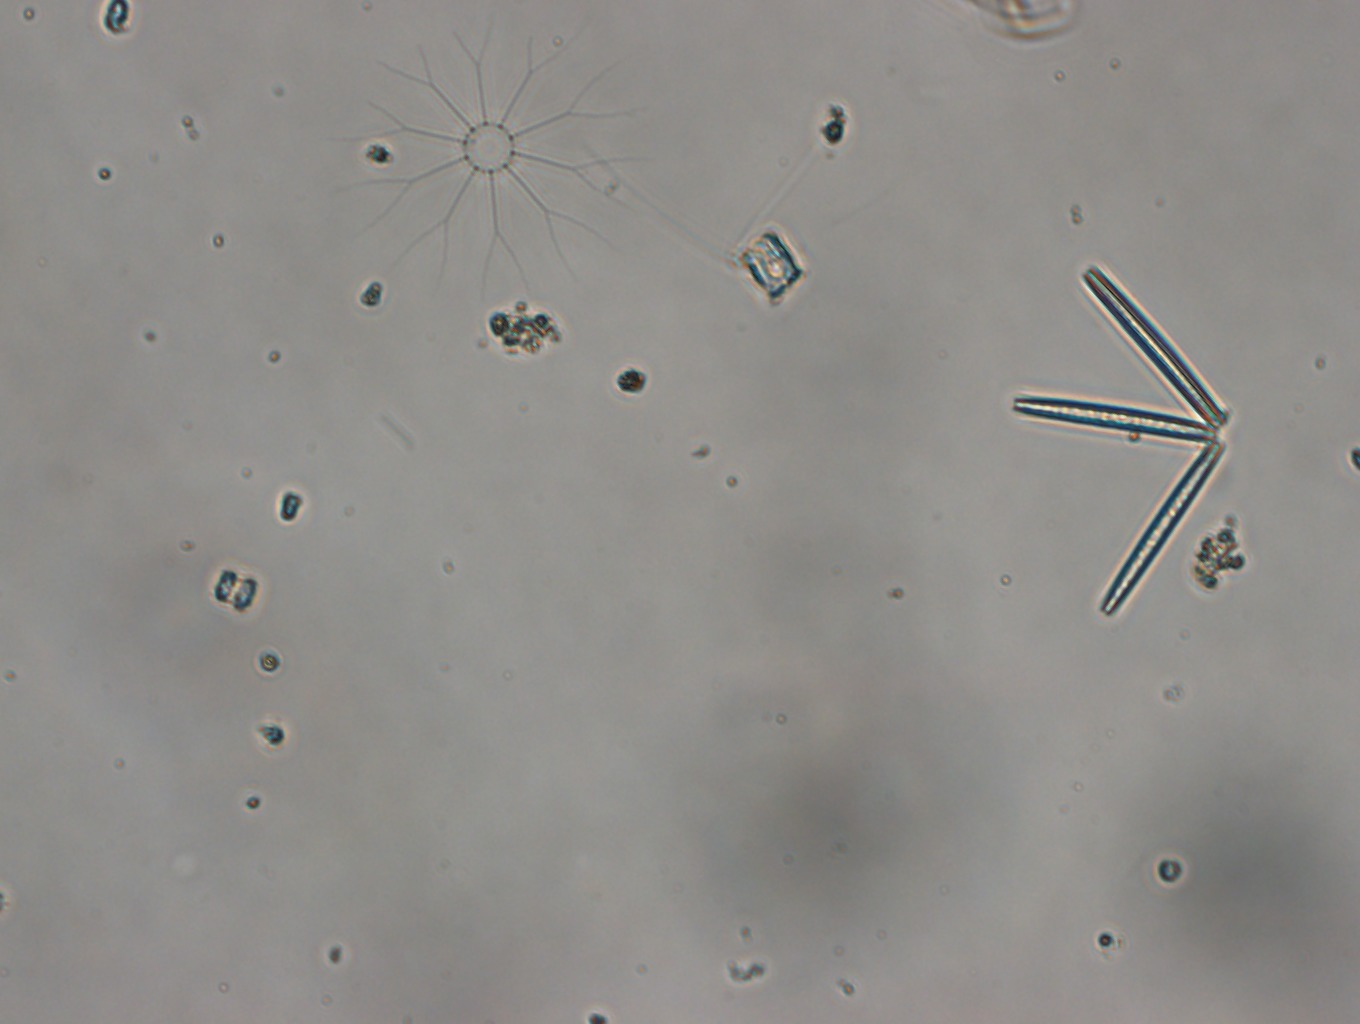bacteriastrum: (361, 15, 644, 302)
thalassionema frauenfeldii: (1014, 256, 1234, 617)
